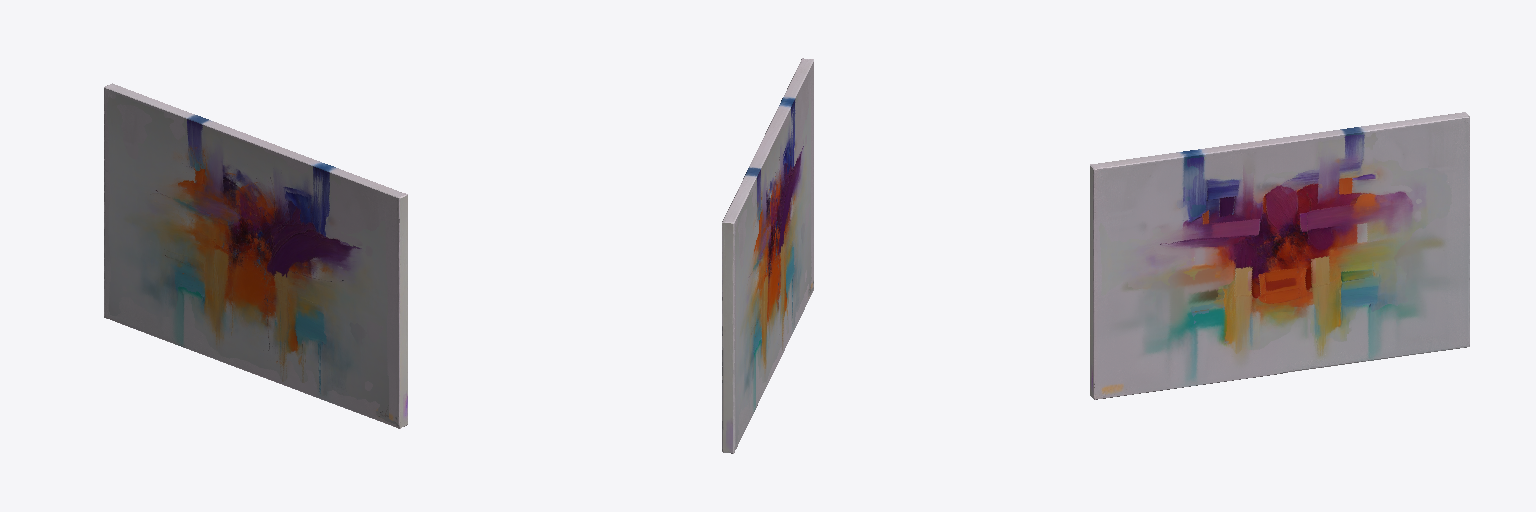
The picture shows the model from 3 angles: view 1: azimuth 30°, elevation 25°; view 2: azimuth 150°, elevation 25°; view 3: azimuth 270°, elevation 25°; orthographic projection.
Visible parts, largest first — view 1: cuadronuevo11; view 2: cuadronuevo11; view 3: cuadronuevo11.
Boxes of the visible parts, <box> form: cuadronuevo11: <box>104,83,407,428</box>; cuadronuevo11: <box>722,58,813,453</box>; cuadronuevo11: <box>1090,112,1469,399</box>.
Size of the model in its own units: 6.05 by 11.32 by 16.86.
1 materials, 1 textured.